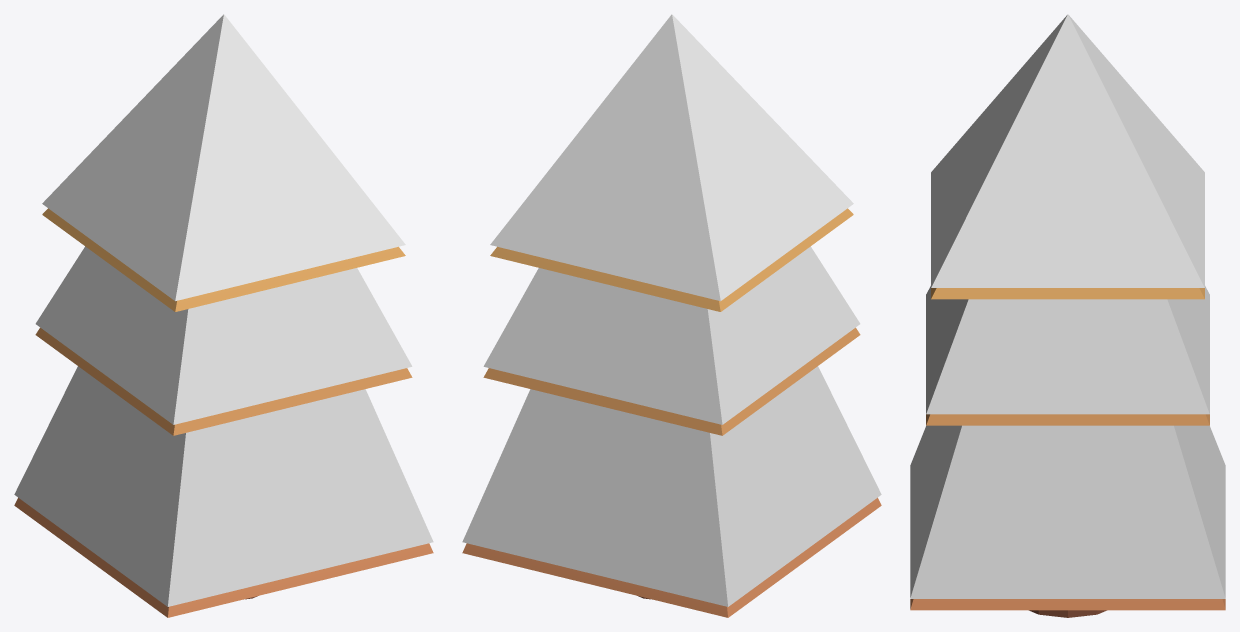
File: Tree_18_winter_gradient_yellow_pal.fbx
The picture shows the model from 3 angles, left to right: view 1: azimuth 30°, elevation 25°; view 2: azimuth 150°, elevation 25°; view 3: azimuth 270°, elevation 25°; orthographic projection. The views are drawn at different scales.
Visible parts, largest first — view 1: Tree_18_winter_gradient_yellow_pal; view 2: Tree_18_winter_gradient_yellow_pal; view 3: Tree_18_winter_gradient_yellow_pal.
Boxes of the visible parts, x1,y1,x2,y2 form: Tree_18_winter_gradient_yellow_pal: (14, 14, 433, 617); Tree_18_winter_gradient_yellow_pal: (462, 14, 881, 617); Tree_18_winter_gradient_yellow_pal: (910, 14, 1225, 617).
Size of the model in its own units: 95.96 by 194 by 95.96.
